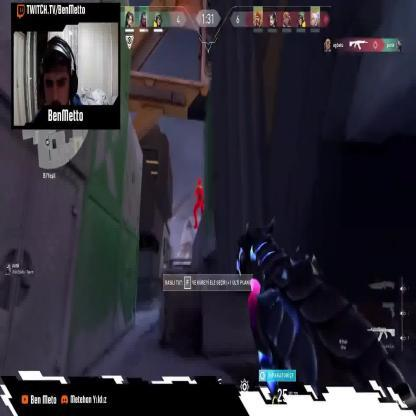enemy: (192, 178, 206, 230)
enemy_head: (198, 178, 202, 186)
